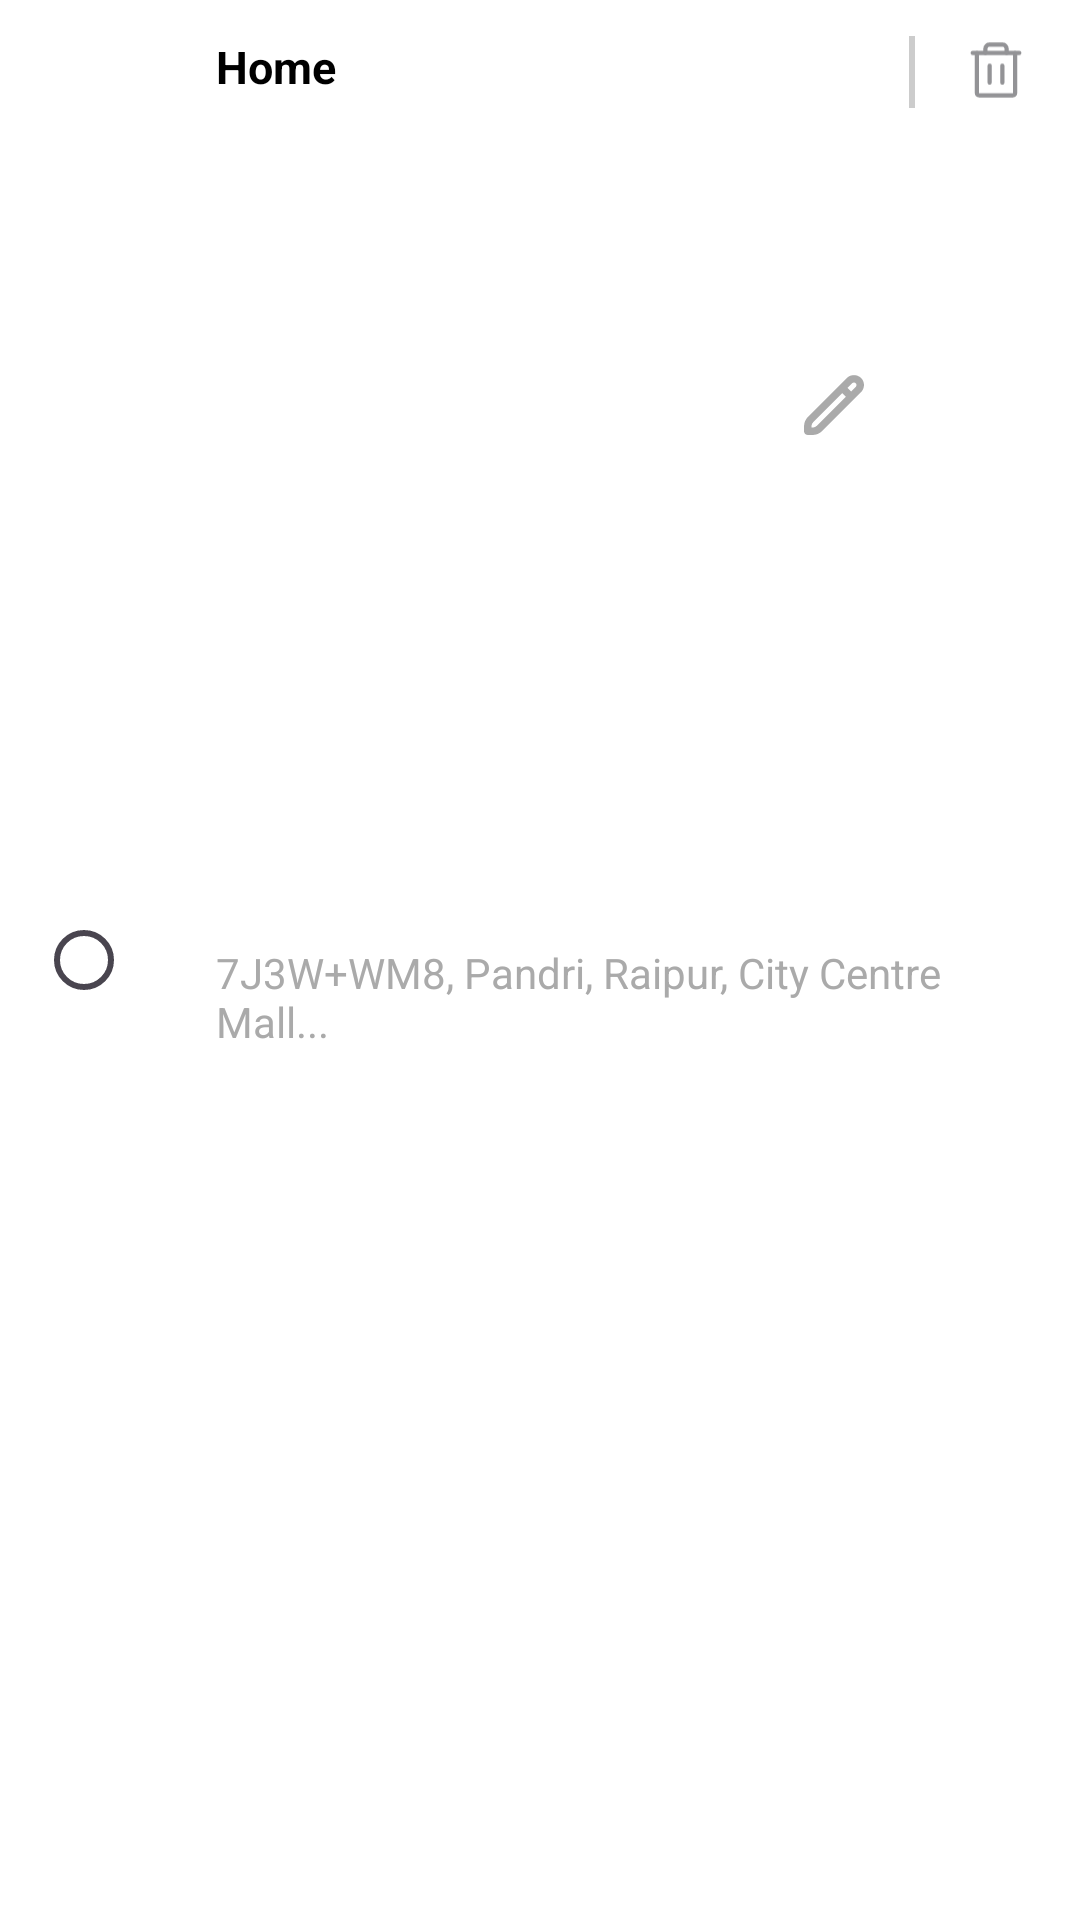

Screen size 1080px x 1920px. Icon name, then its box in pixels as {"x1": x1, "y1": y1, "x2": x2, "y2": y2}:
Delete: {"x1": 970, "y1": 42, "x2": 1022, "y2": 98}
pencil: {"x1": 804, "y1": 375, "x2": 864, "y2": 435}
